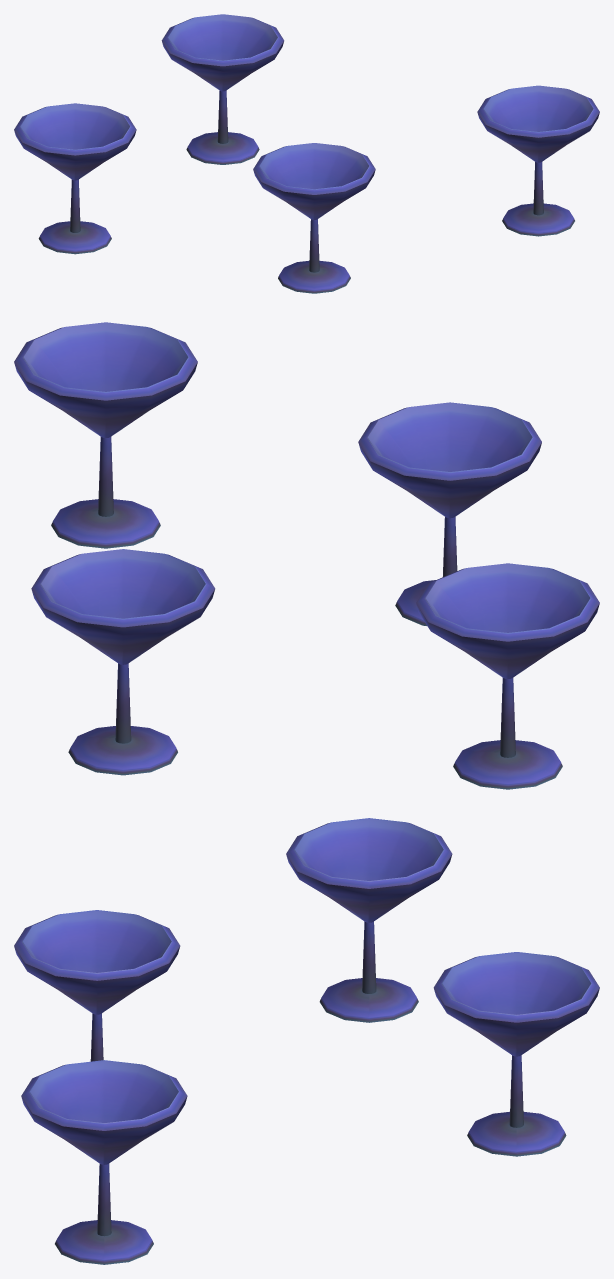
File: drinks_4_glasses.DAE
3 renders of one model, top to bottom at view 1: azimuth 30°, elevation 25°; view 2: azimuth 150°, elevation 25°; view 3: azimuth 270°, elevation 25°, orthographic. The views are drawn at different scales.
Parts seen in each view (by area): view 1: Cylinder03; view 2: Cylinder03; view 3: Cylinder03.
Boxes of the visible parts, <box> form: Cylinder03: <box>14,14,599,293</box>; Cylinder03: <box>14,322,599,789</box>; Cylinder03: <box>14,818,599,1264</box>.
Size of the model in its own units: 1.73 by 0.3943 by 1.38.
